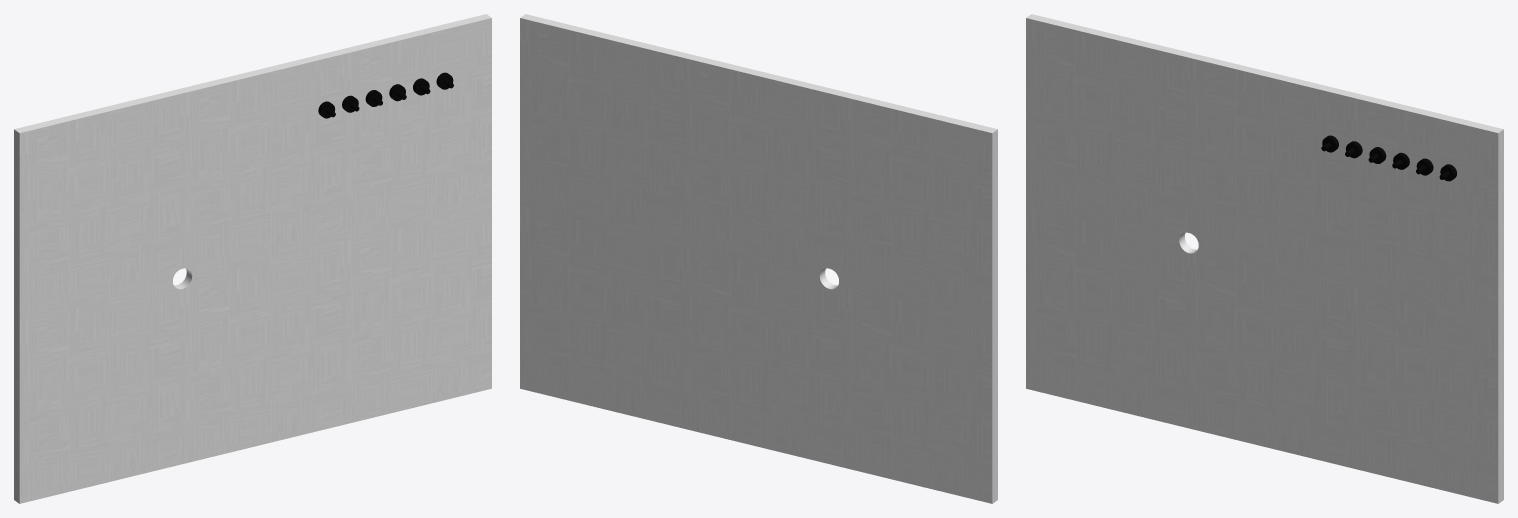
Rendered from board.DAE.
3 renders of one model, left to right at view 1: azimuth 30°, elevation 25°; view 2: azimuth 150°, elevation 25°; view 3: azimuth 330°, elevation 25°, orthographic.
Visible parts, largest first — view 1: Box003-Pivot; view 2: Box003-Pivot; view 3: Box003-Pivot.
Boxes of the visible parts, x1=… form: Box003-Pivot: x1=14, y1=14, x2=491, y2=503; Box003-Pivot: x1=520, y1=14, x2=997, y2=503; Box003-Pivot: x1=1026, y1=14, x2=1503, y2=503.
Bounding box in the file's own units: 1000 × 50 × 750.
Materials: 2 (1 with a texture image).
